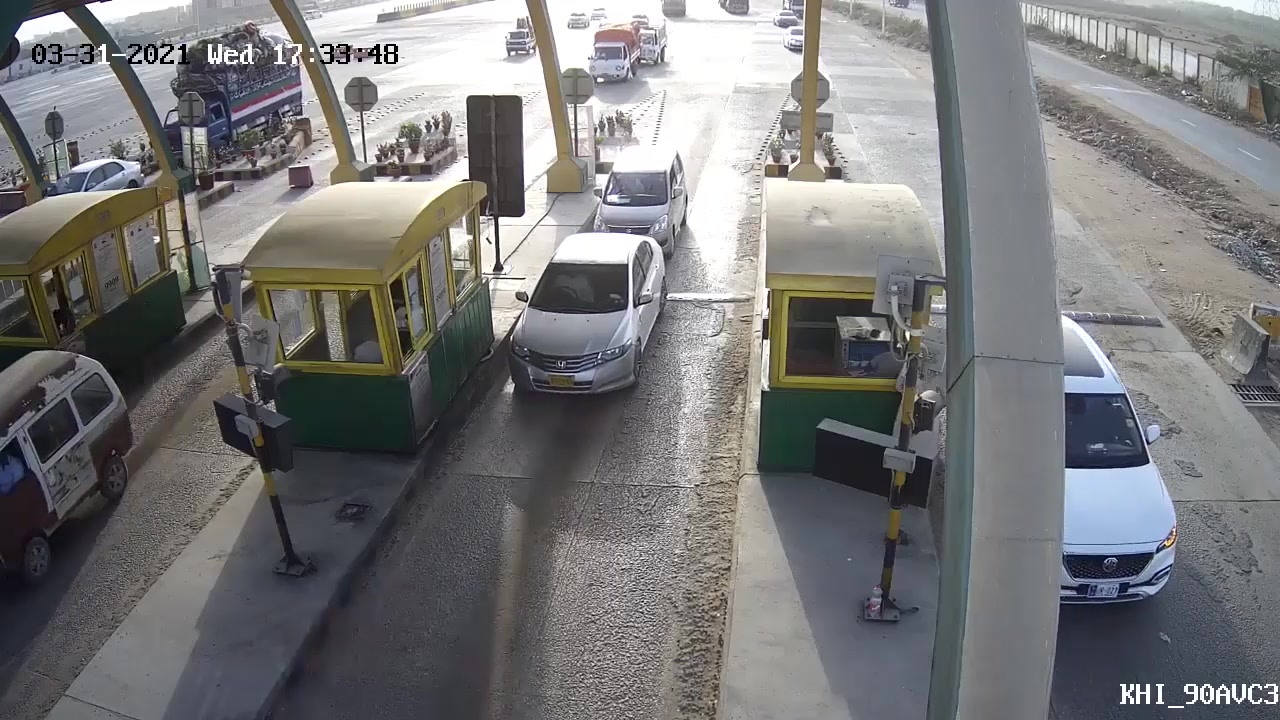F1: (494, 235, 665, 411)
